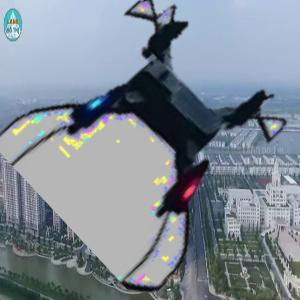drone: (29, 12, 276, 259)
